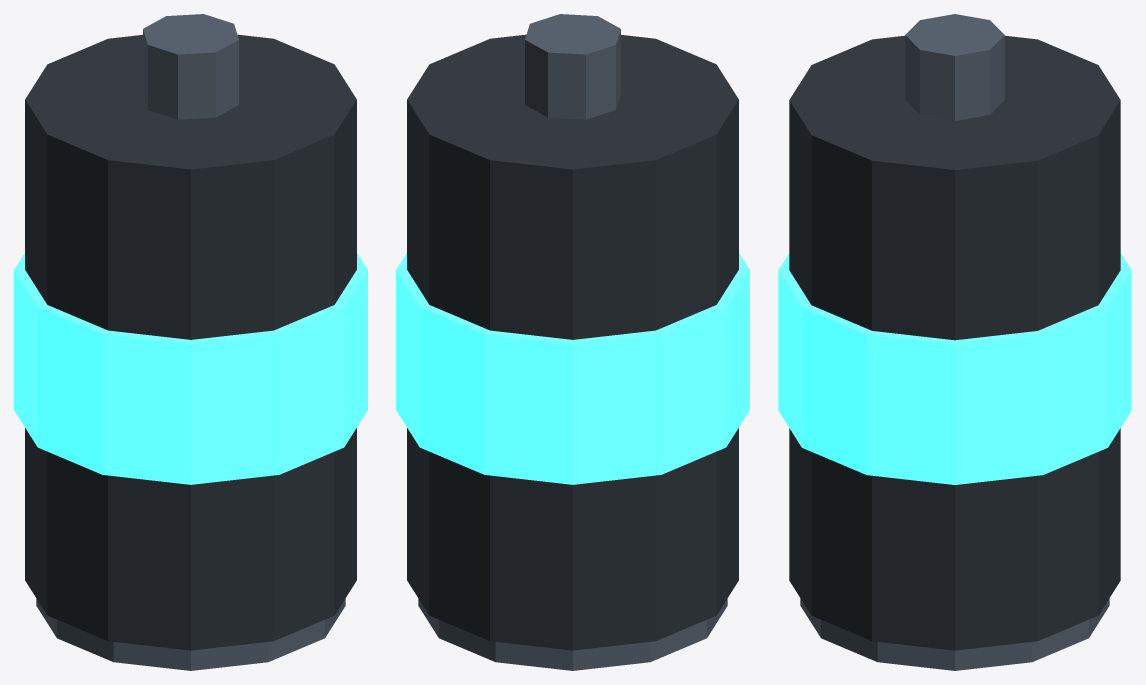
File: prop_cell.glb
The picture shows the model from 3 angles, left to right: view 1: azimuth 30°, elevation 25°; view 2: azimuth 150°, elevation 25°; view 3: azimuth 270°, elevation 25°; orthographic projection.
Parts seen in each view (by area): view 1: prop_cell; view 2: prop_cell; view 3: prop_cell.
Boxes of the visible parts, x1,y1,x2,y2 form: prop_cell: (14,14,367,670); prop_cell: (396,14,749,670); prop_cell: (778,14,1131,670).
Bounding box in the file's own units: 0.32 × 0.57 × 0.32.
